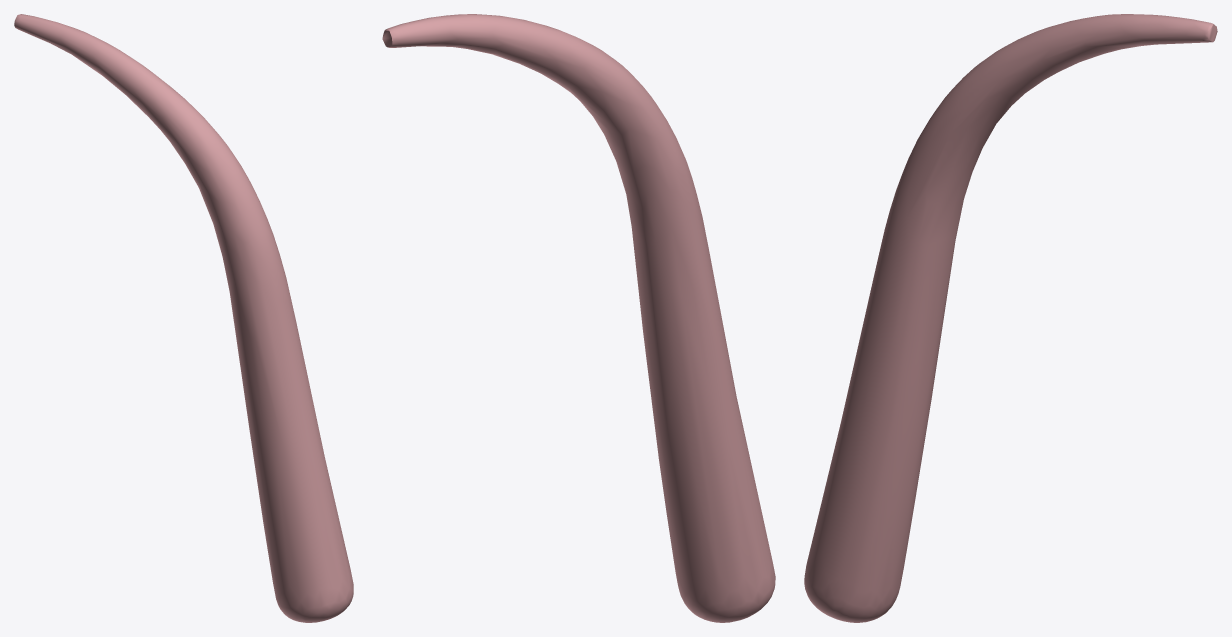
The model's file is fma68211_fj6549.glb.
3 renders of one model, left to right at view 1: azimuth 90°, elevation 25°; view 2: azimuth 150°, elevation 25°; view 3: azimuth 270°, elevation 25°, orthographic. The views are drawn at different scales.
Parts seen in each view (by area): view 1: FMA68211_FJ6549; view 2: FMA68211_FJ6549; view 3: FMA68211_FJ6549.
Part boxes in pixels (x1=…): FMA68211_FJ6549: x1=14, y1=14, x2=353, y2=622; FMA68211_FJ6549: x1=382, y1=14, x2=775, y2=622; FMA68211_FJ6549: x1=804, y1=14, x2=1217, y2=622.
Bounding box in the file's own units: 0.0118 × 0.038 × 0.0215.
